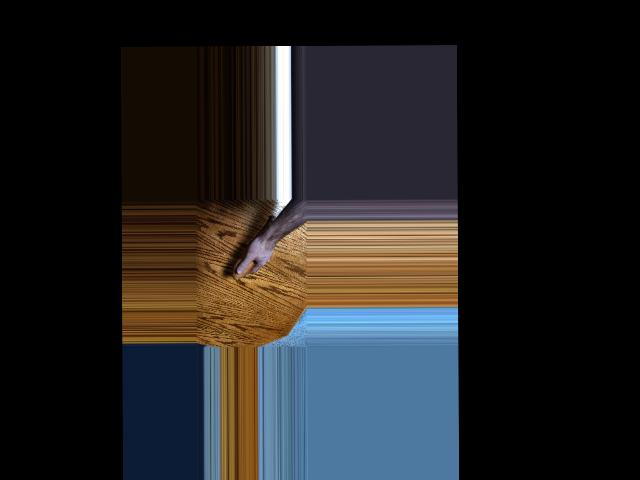sweet_potato: (232, 213, 278, 280)
